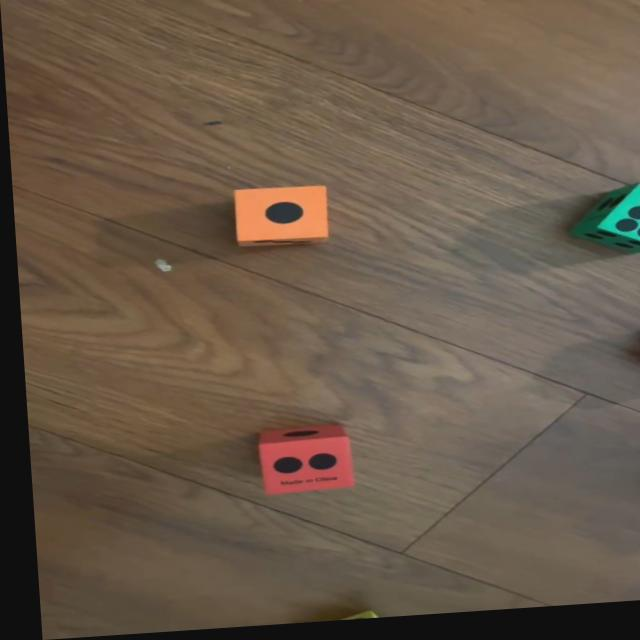blue_block: (635, 357, 640, 379)
red_block: (248, 425, 348, 496)
